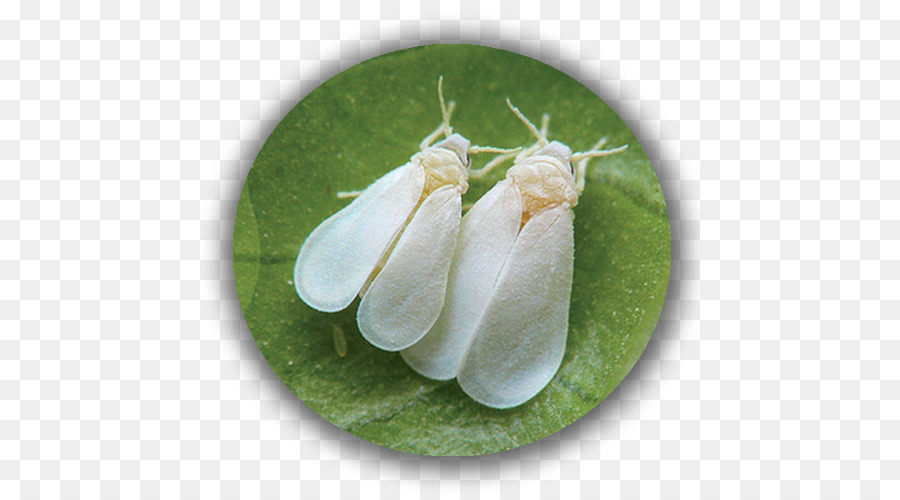Tobacco Whitefly: (410, 120, 584, 427), (300, 82, 434, 372)
